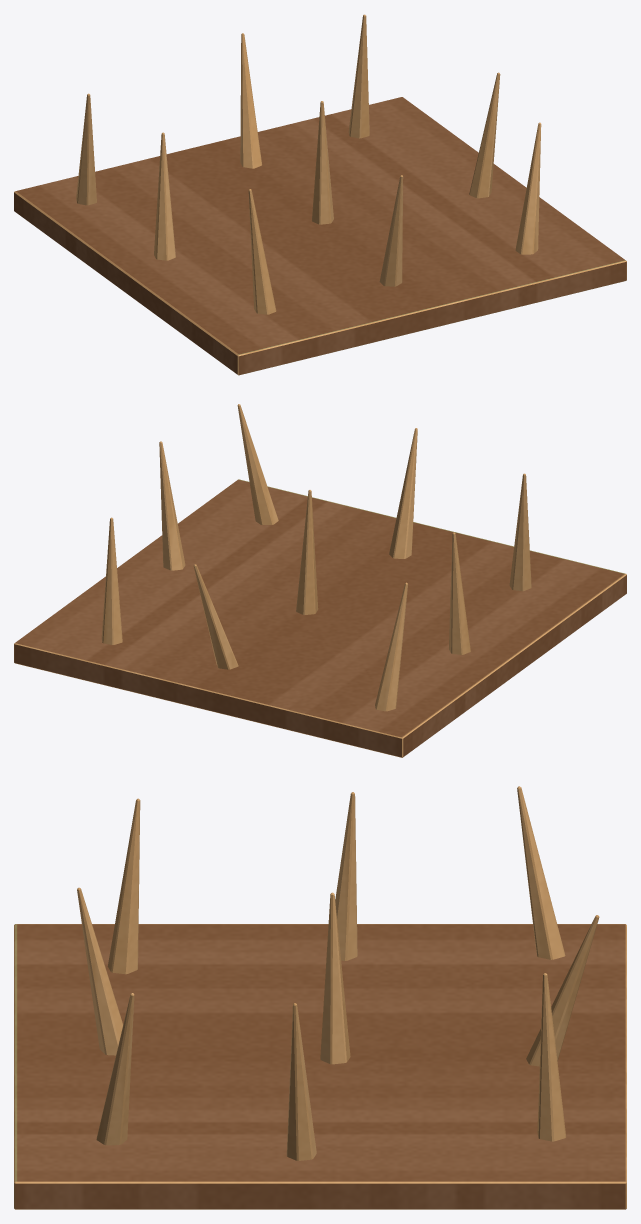
The model's file is sm_spike_trap.glb.
The picture shows the model from 3 angles, top to bottom: view 1: azimuth 30°, elevation 25°; view 2: azimuth 150°, elevation 25°; view 3: azimuth 270°, elevation 25°; orthographic projection. The views are drawn at different scales.
Visible parts, largest first — view 1: sm_spike_trap; view 2: sm_spike_trap; view 3: sm_spike_trap.
Part boxes in pixels (left/top/right/bottom): sm_spike_trap: left=14, top=14, right=626, bottom=375; sm_spike_trap: left=14, top=404, right=626, bottom=757; sm_spike_trap: left=14, top=786, right=626, bottom=1209.
Bounding box in the file's own units: 1 × 0.3449 × 1.
1 material, 1 textured.
